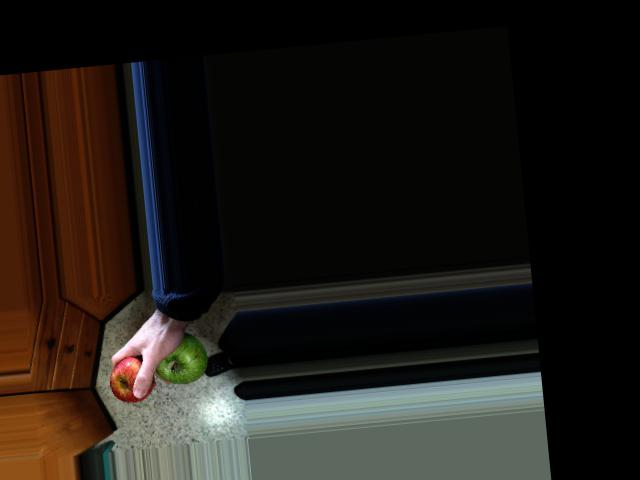apple: (150, 325, 213, 389)
